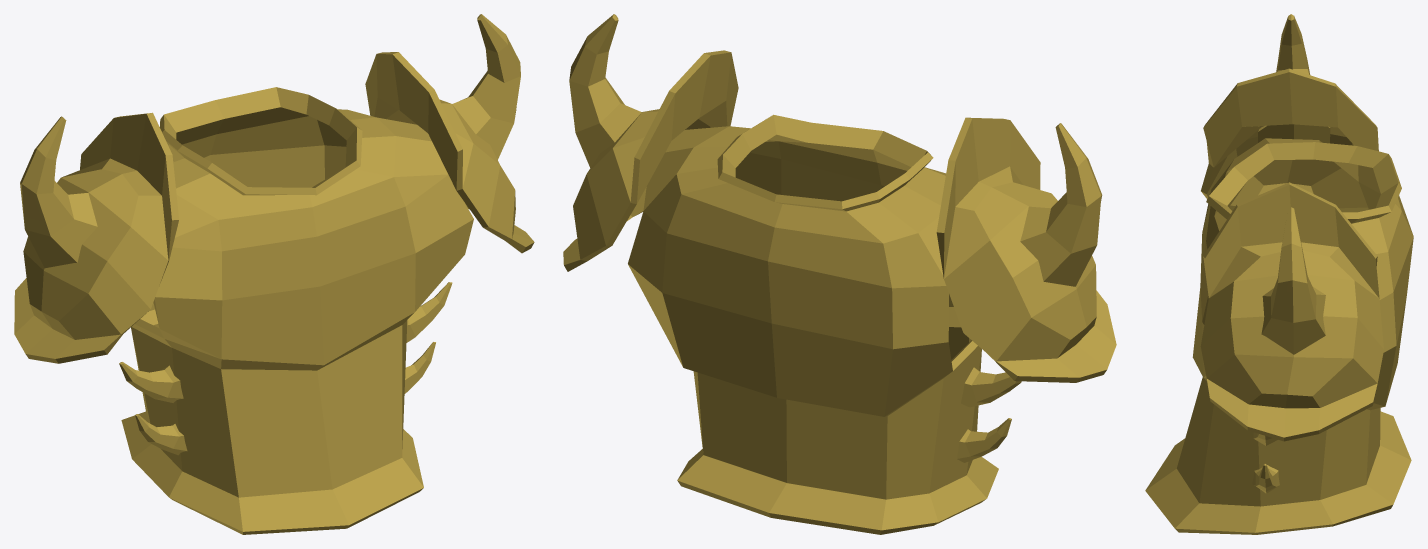
File: Armor_Golden.glb
3 renders of one model, left to right at view 1: azimuth 30°, elevation 25°; view 2: azimuth 150°, elevation 25°; view 3: azimuth 270°, elevation 25°, orthographic. The views are drawn at different scales.
Visible parts, largest first — view 1: Armor_Golden; view 2: Armor_Golden; view 3: Armor_Golden.
Boxes of the visible parts, x1,y1,x2,y2 form: Armor_Golden: [14, 14, 534, 534]; Armor_Golden: [563, 14, 1116, 534]; Armor_Golden: [1145, 14, 1413, 534].
Size of the model in its own units: 1.54 by 1.2 by 0.7596.
